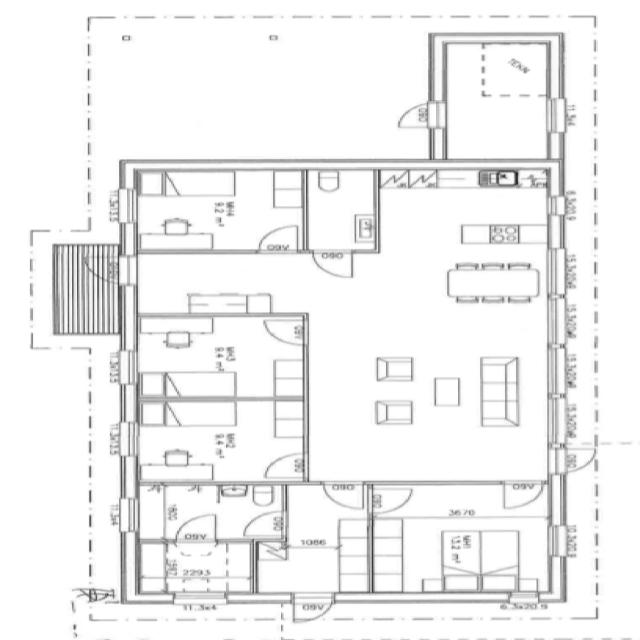door: (48, 244, 126, 335), (150, 492, 263, 550), (388, 98, 448, 133), (172, 511, 220, 552), (364, 482, 418, 518), (79, 252, 132, 288), (256, 448, 312, 482), (250, 222, 305, 254), (287, 590, 337, 625), (497, 477, 546, 512), (258, 315, 308, 349), (318, 478, 367, 512), (547, 444, 600, 475), (237, 508, 289, 539), (310, 248, 356, 282), (540, 193, 574, 220)
window: (41, 242, 122, 338), (540, 244, 572, 297), (110, 184, 143, 228), (111, 345, 143, 388), (112, 420, 144, 462), (542, 520, 574, 561), (540, 94, 570, 136), (163, 590, 233, 608), (115, 496, 144, 536), (499, 589, 544, 613), (540, 192, 574, 220)
zone: (83, 15, 432, 161), (301, 329, 551, 483), (364, 483, 561, 599), (129, 166, 304, 251), (131, 315, 304, 400), (132, 399, 303, 482), (440, 39, 557, 160), (133, 483, 285, 543), (37, 242, 123, 339), (126, 538, 258, 598), (304, 168, 378, 254)
